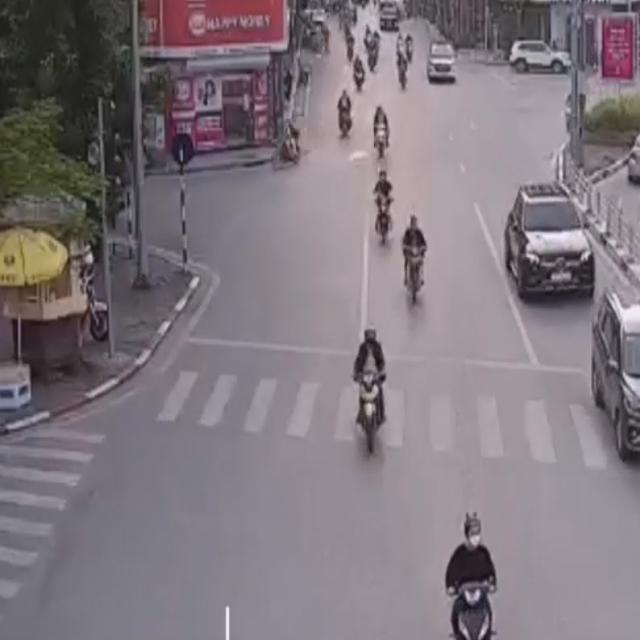car: (499, 178, 603, 306), (587, 279, 640, 473)
motorbike: (444, 510, 500, 640), (349, 322, 390, 462), (401, 213, 429, 312), (272, 112, 306, 177), (373, 163, 395, 244), (336, 86, 354, 146), (372, 103, 390, 157)
